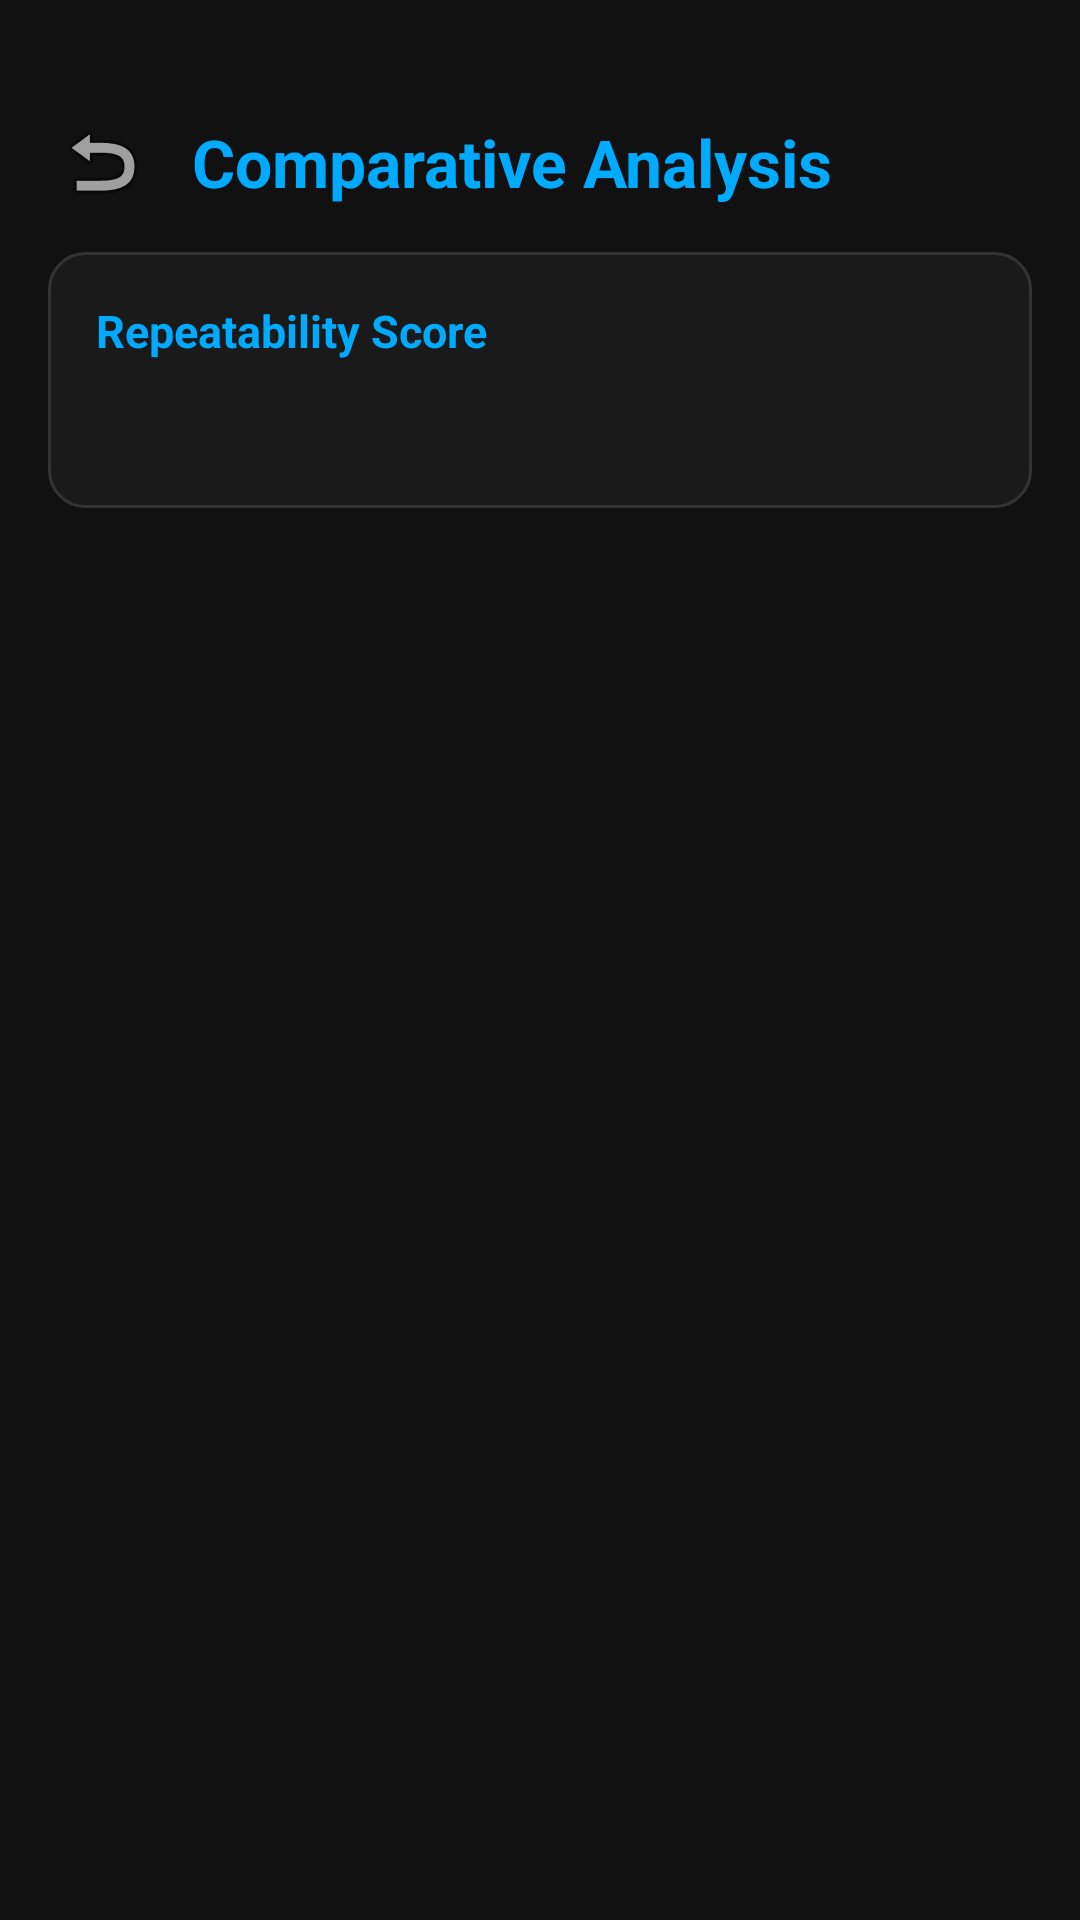

Where icons sit on this 1080px x 1920px app screen, as [x1, y1, x2, y2]:
revert: [72, 134, 135, 191]
